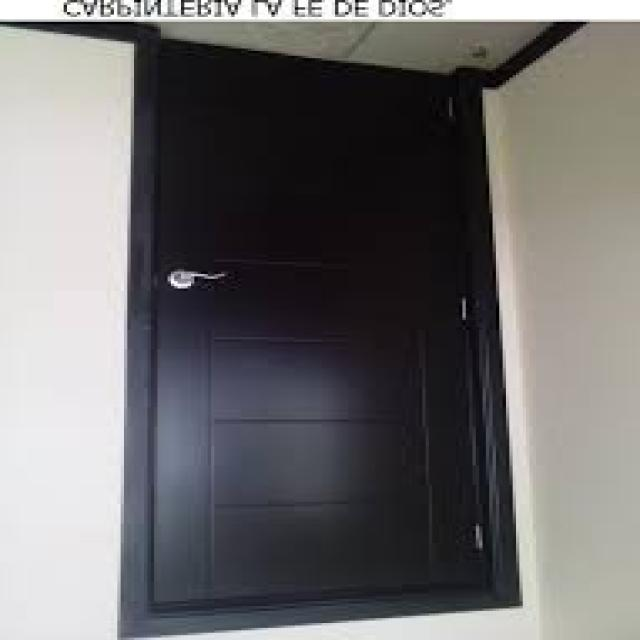door: (127, 39, 516, 633)
